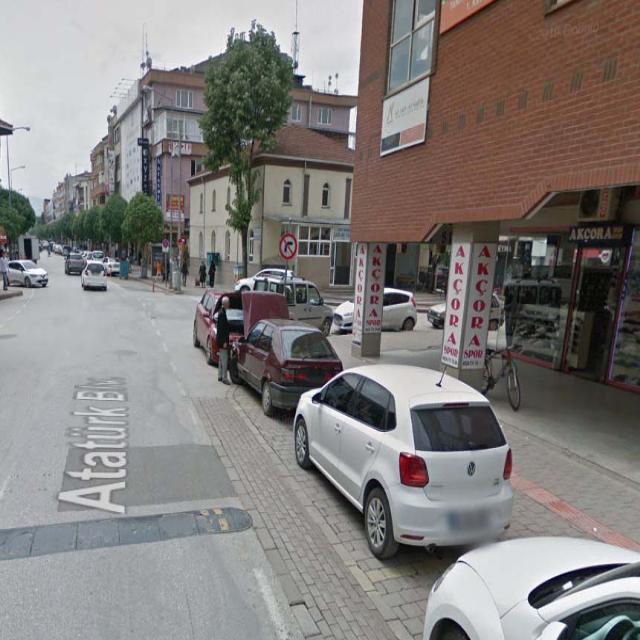sagadonulmez: (281, 233, 297, 258)
